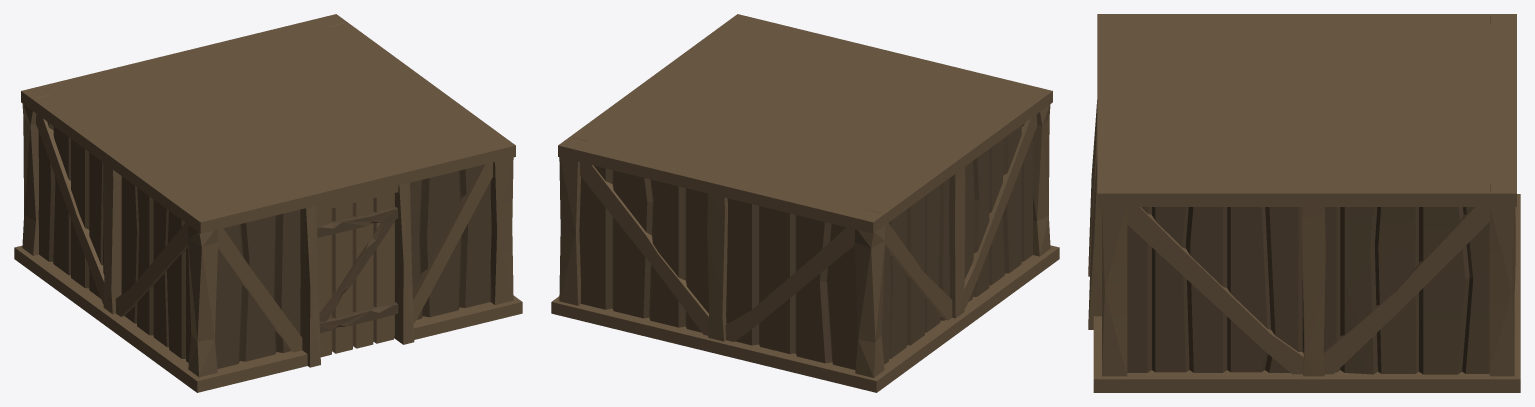
The picture shows the model from 3 angles, left to right: view 1: azimuth 30°, elevation 25°; view 2: azimuth 150°, elevation 25°; view 3: azimuth 270°, elevation 25°; orthographic projection. The views are drawn at different scales.
Parts seen in each view (by area): view 1: SM_Bld_Base_Door_02; view 2: SM_Bld_Base_Door_02; view 3: SM_Bld_Base_Door_02.
Part boxes in pixels (<box>): SM_Bld_Base_Door_02: <box>14,14,522,392</box>; SM_Bld_Base_Door_02: <box>551,14,1059,392</box>; SM_Bld_Base_Door_02: <box>1088,14,1520,392</box>.
Bounding box in the file's own units: 4.57 × 2.26 × 4.51.
1 material, 1 textured.
